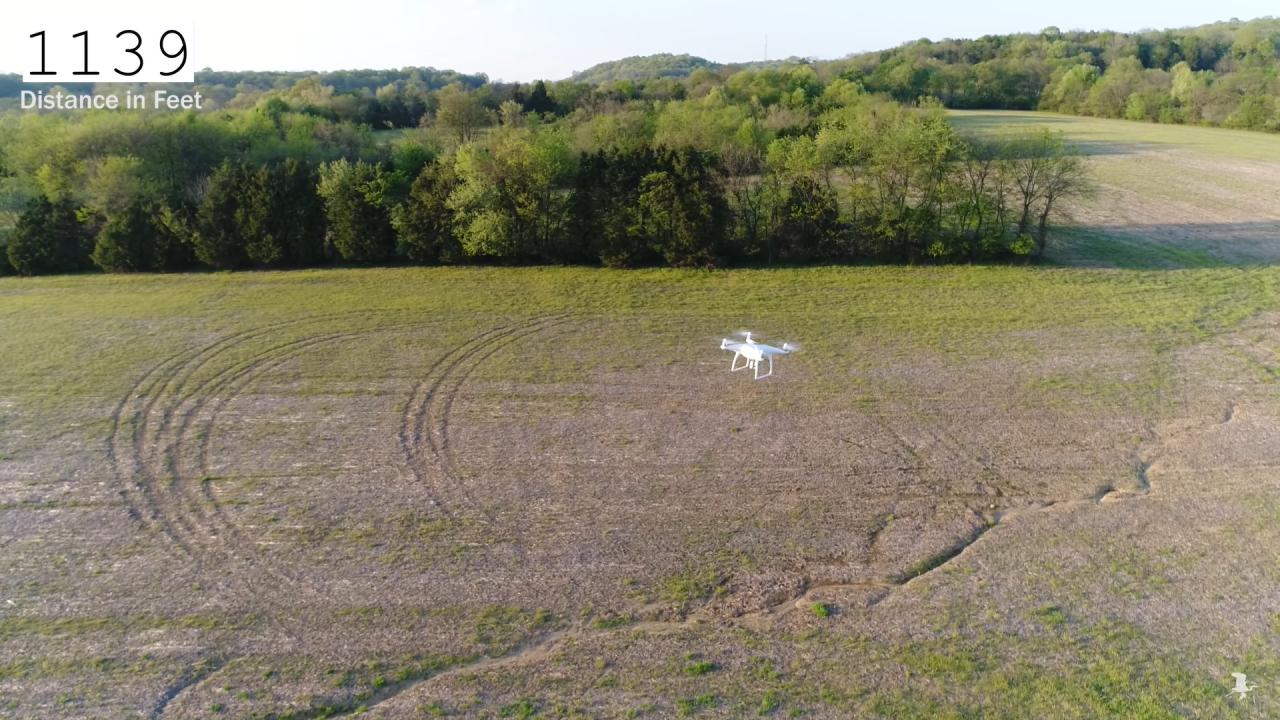Drone: (706, 319, 812, 389)
